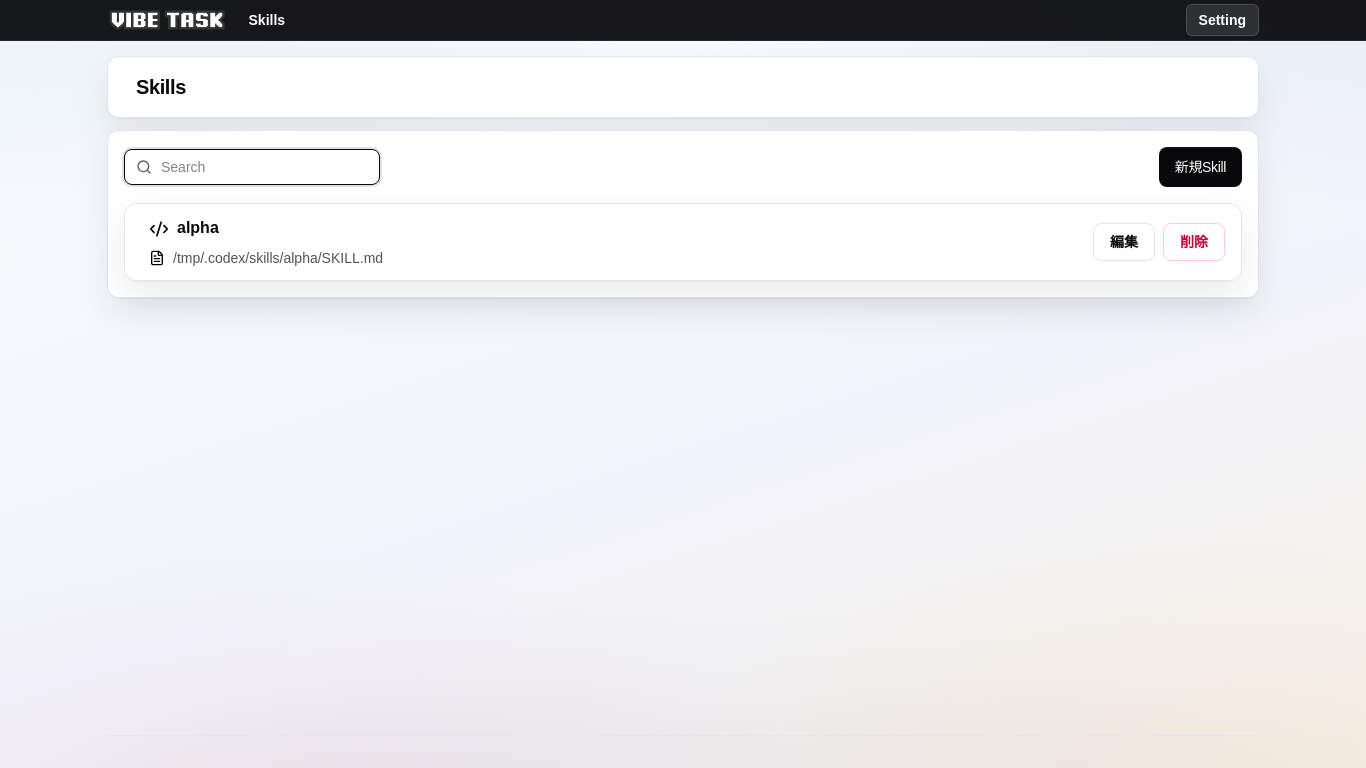
Test: deletes skill from list
Expected: the text "alpha" is shown, [177,216,219,240]
Click the button "削除": (1194, 242) [1163,223,1225,261]
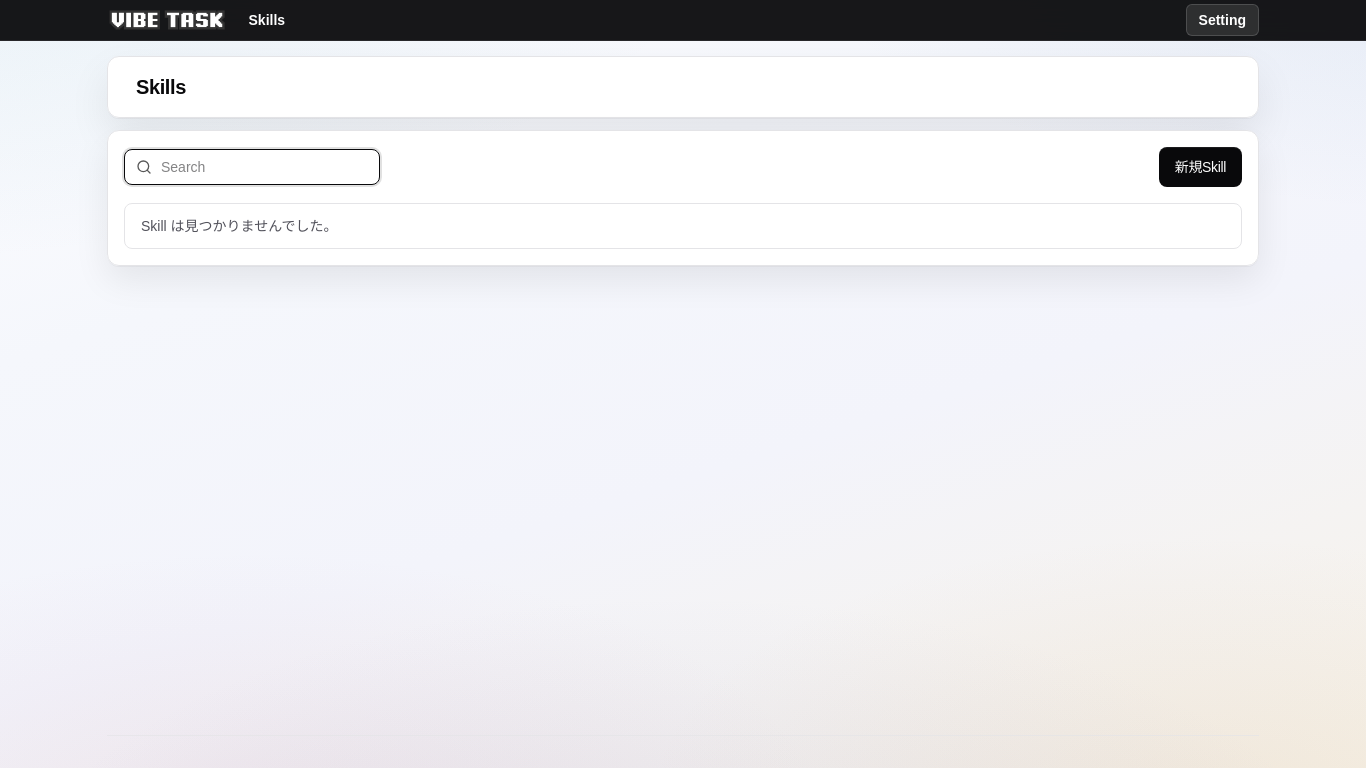
Expected: the text "Skill は見つかりませんでした。" is shown, [124,203,1242,249]
